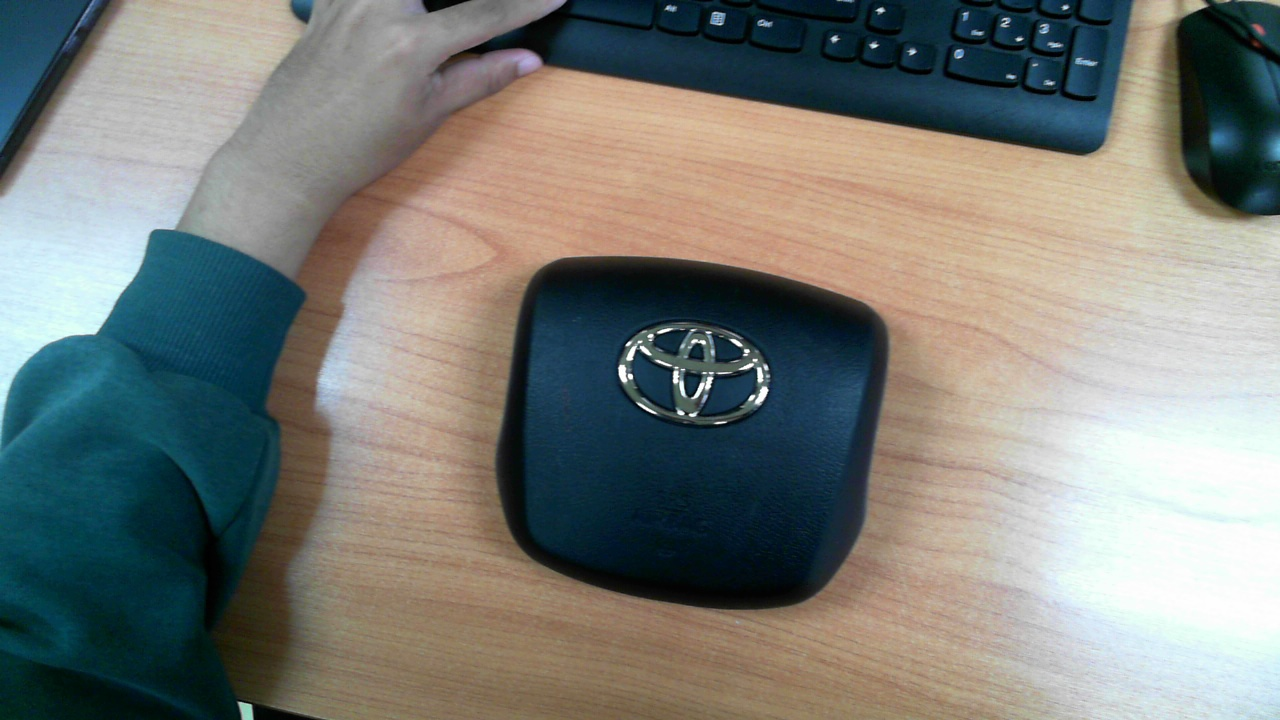Airbag: (494, 255, 889, 611)
Toyota: (618, 322, 771, 425)
